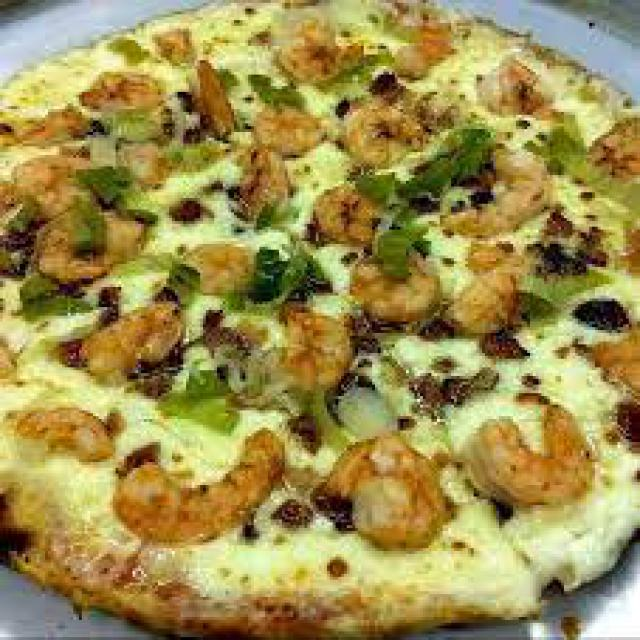camarao: (122, 429, 289, 556), (318, 432, 453, 565), (460, 402, 598, 510), (69, 296, 189, 392), (440, 144, 555, 236), (254, 304, 351, 399), (336, 92, 434, 171), (351, 252, 446, 328), (20, 409, 117, 469), (10, 153, 98, 216)
pizza: (0, 3, 637, 637)
